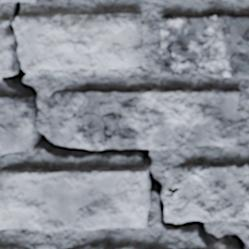brick: (50, 87, 239, 148), (0, 167, 149, 230), (159, 15, 248, 75), (163, 162, 248, 221), (0, 95, 33, 153), (81, 245, 134, 248), (0, 247, 26, 248), (21, 0, 35, 1)
broken_brick: (14, 11, 142, 73), (0, 18, 12, 75)
crack: (0, 0, 246, 248), (193, 41, 212, 73), (165, 33, 179, 76)
